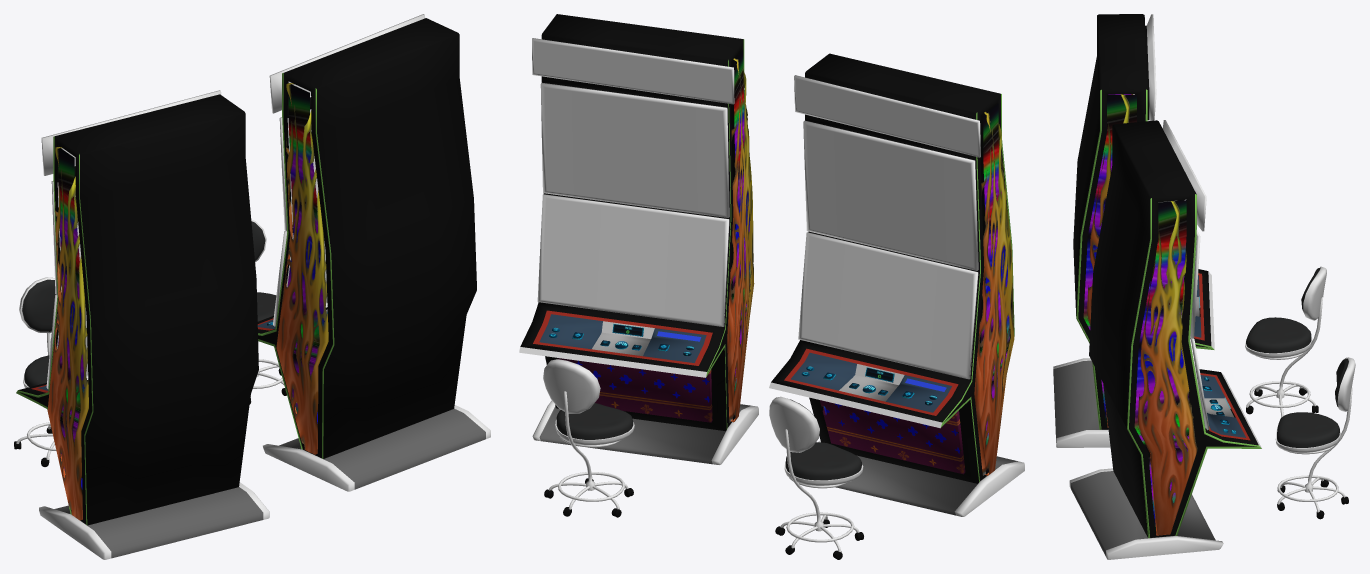
Rendered from slotAutomat2Pref2.fbx.
3 views of the same model, side by side, from view 1: azimuth 30°, elevation 25°; view 2: azimuth 150°, elevation 25°; view 3: azimuth 270°, elevation 25° (orthographic). The views are drawn at different scales.
Visible parts, largest first — view 1: SlotMashine.016, SlotMashine.045, UVScrollObjectAutomat.022, GameChair.022, UVScrollObjectAutomat.026, GameChair.056; view 2: SlotMashine.016, SlotMashine.045, GameChair.056, GameChair.022, UVScrollObjectAutomat.026, UVScrollObjectAutomat.022; view 3: SlotMashine.045, SlotMashine.016, GameChair.022, GameChair.056, UVScrollObjectAutomat.022, UVScrollObjectAutomat.026.
Boxes of the visible parts, x1,y1,x2,y2 form: SlotMashine.016: [16, 90, 269, 559]; SlotMashine.045: [257, 14, 490, 491]; UVScrollObjectAutomat.022: [287, 84, 324, 423]; GameChair.022: [14, 277, 56, 466]; UVScrollObjectAutomat.026: [58, 146, 84, 489]; GameChair.056: [249, 219, 286, 404]; SlotMashine.016: [769, 53, 1024, 516]; SlotMashine.045: [519, 14, 758, 464]; GameChair.056: [543, 359, 634, 517]; GameChair.022: [769, 396, 863, 559]; UVScrollObjectAutomat.026: [823, 103, 1009, 474]; UVScrollObjectAutomat.022: [576, 49, 750, 420]; SlotMashine.045: [1069, 120, 1261, 559]; SlotMashine.016: [1053, 14, 1214, 447]; GameChair.022: [1245, 266, 1326, 417]; GameChair.056: [1275, 357, 1355, 519]; UVScrollObjectAutomat.022: [1134, 200, 1189, 533]; UVScrollObjectAutomat.026: [1083, 94, 1136, 426].
Bounding box in the file's own units: 336 × 294 × 225.
10 materials, 6 textured.
